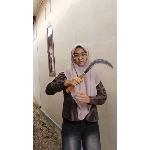Celurit: (64, 55, 116, 93)
